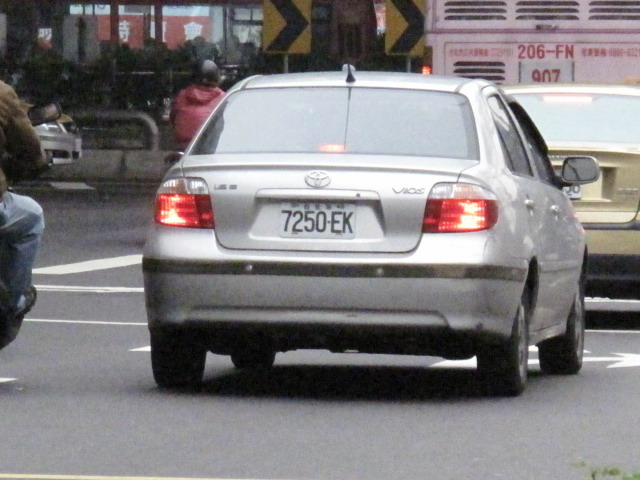plate: (279, 199, 360, 241)
